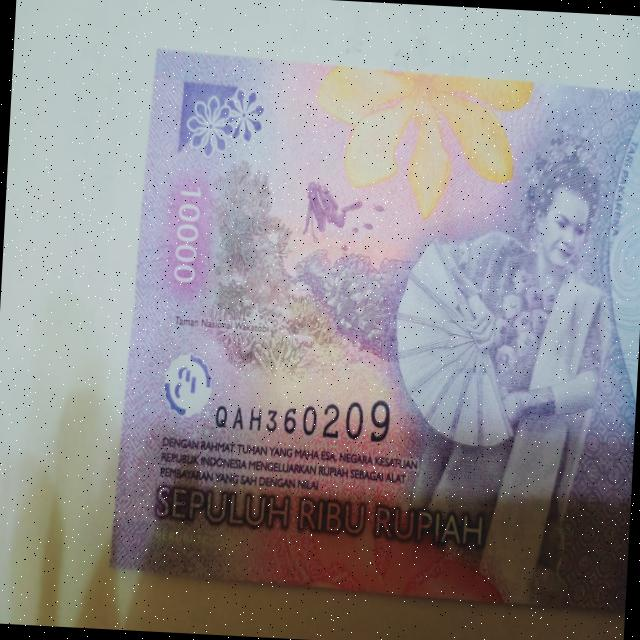10K: (95, 44, 640, 625)
